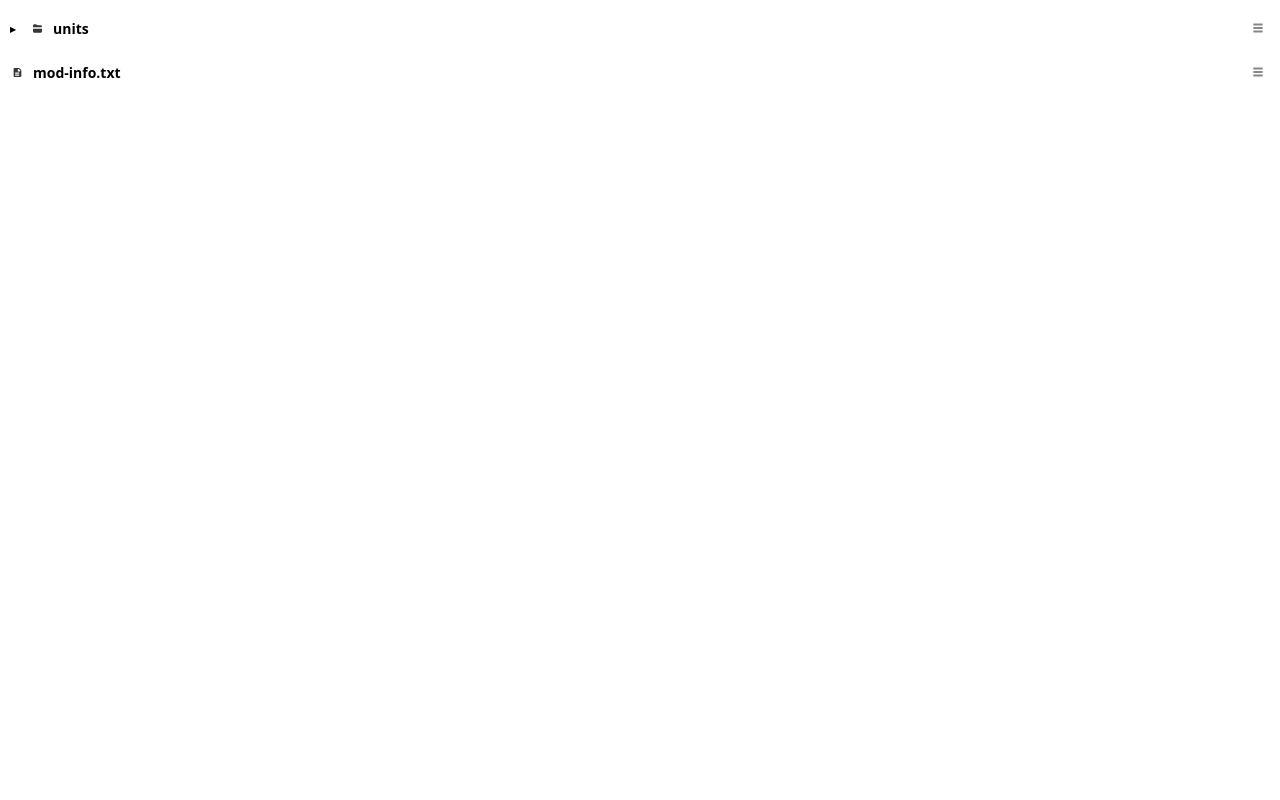
Test: FileTreePanel 目录重命名 › 重命名已展开目录后保持展开，子文件仍可见
// 展开 units 目录
Click the text "units" at (71, 28), box [53, 18, 89, 38]
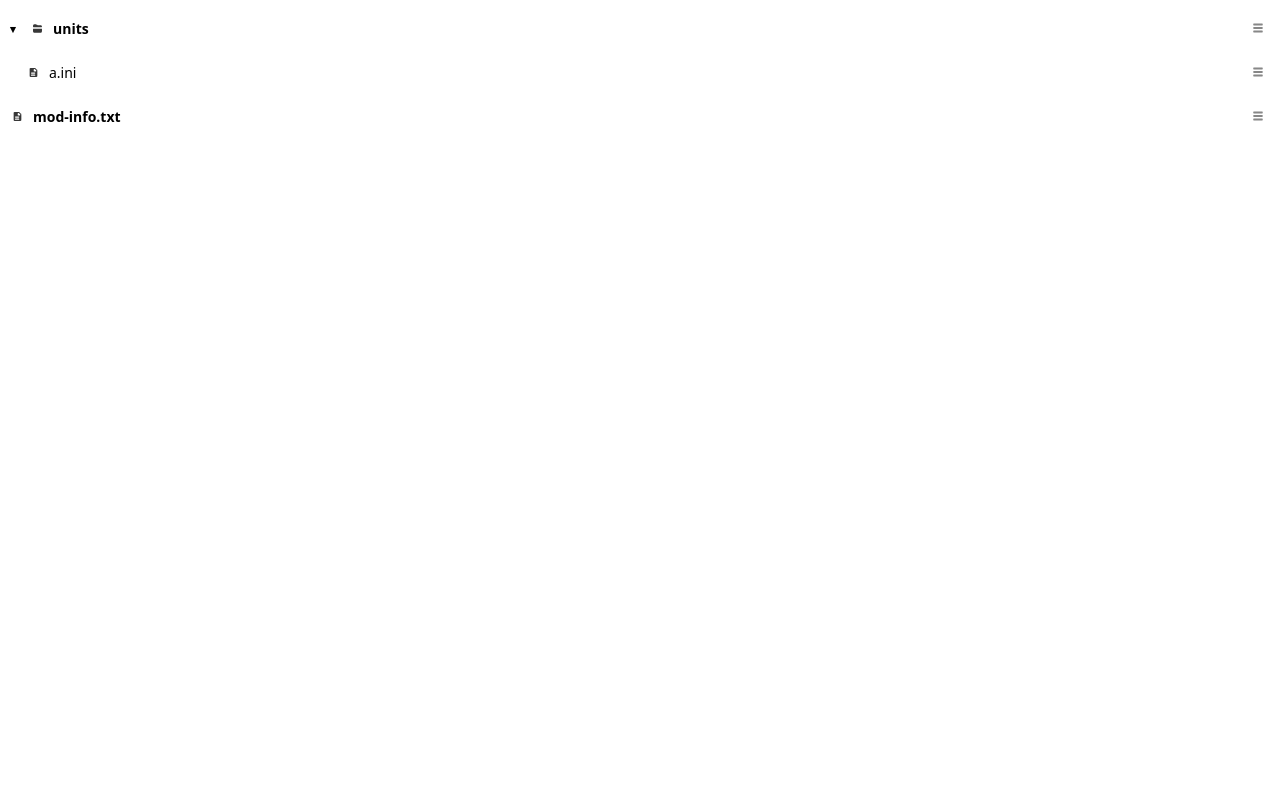
expect the text "a.ini" is shown: met, box [49, 62, 76, 82]
// 更多操作 → 重命名
Click the button named "units 的更多操作" at (1258, 28), box [1236, 6, 1279, 50]
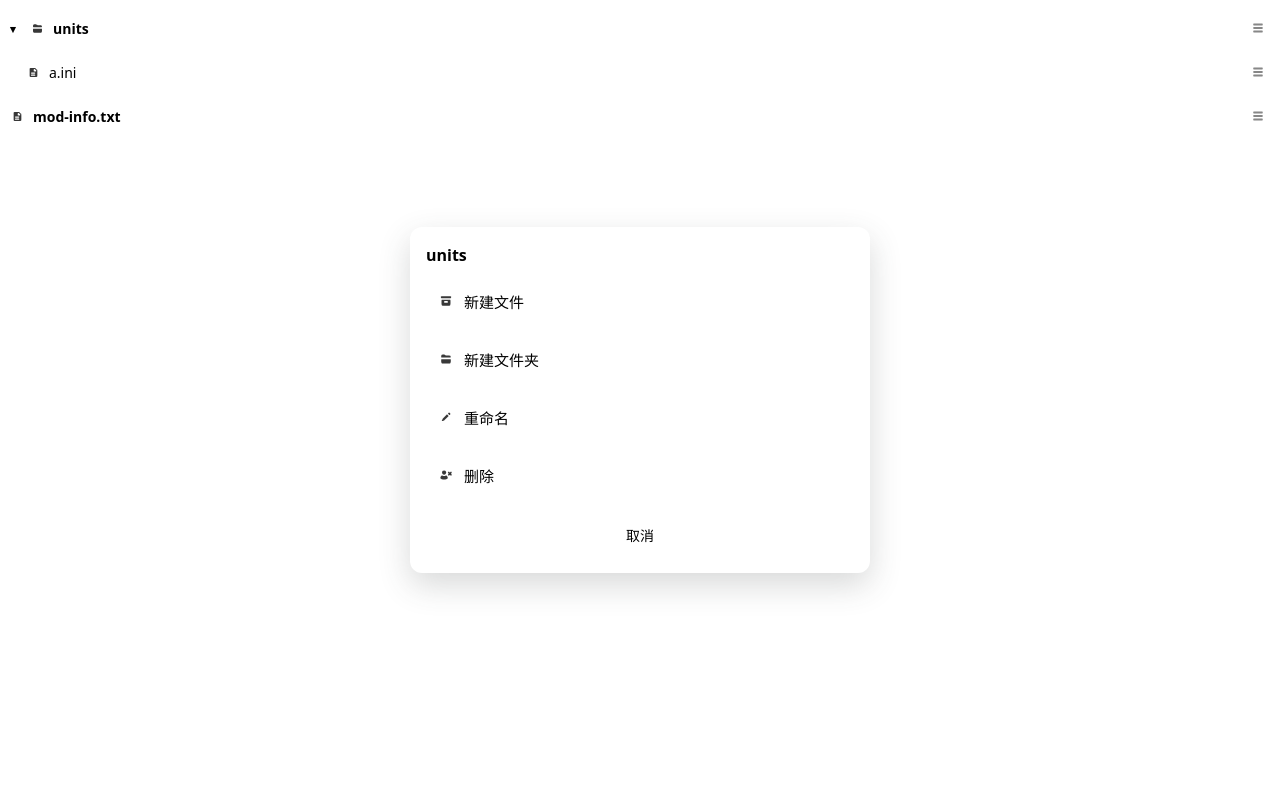
Click the button "重命名" at (487, 418), box [426, 393, 854, 441]
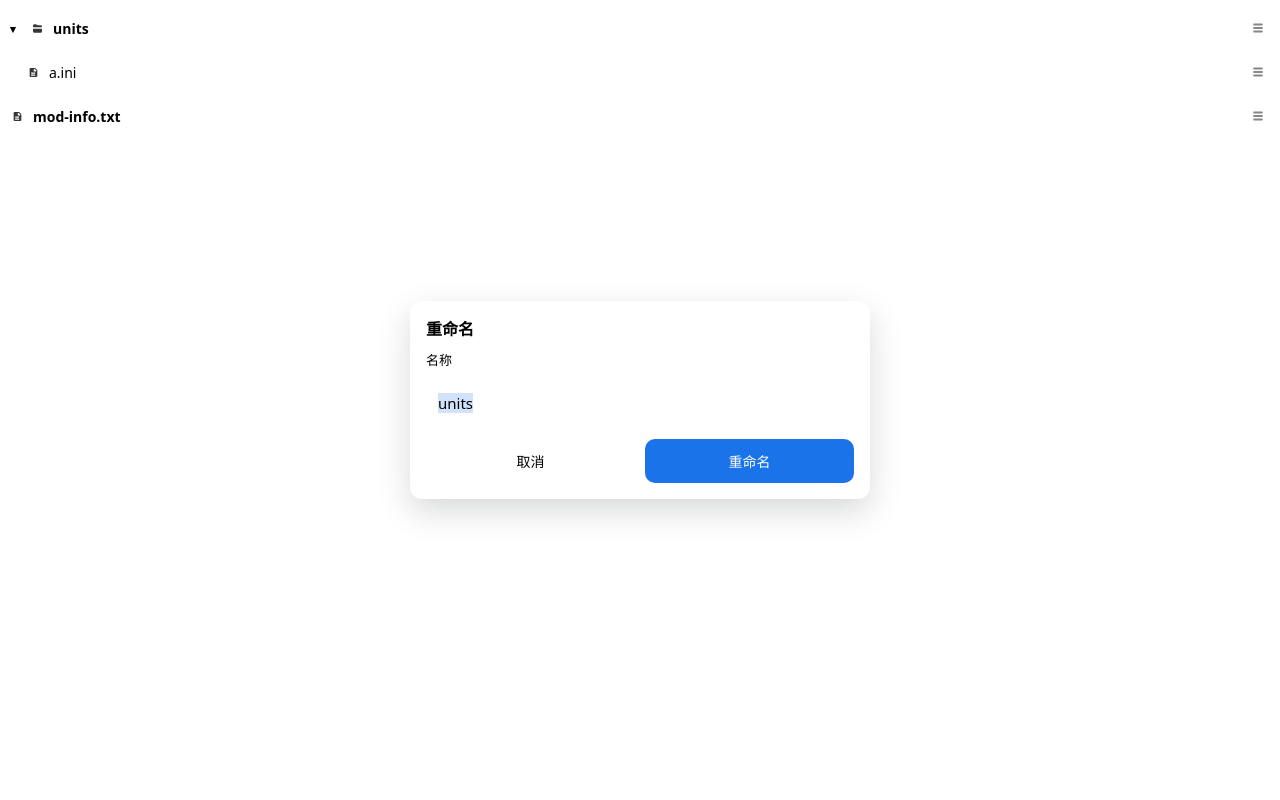
Replace the text in the field with "units2" at (640, 403), box [426, 381, 854, 425]
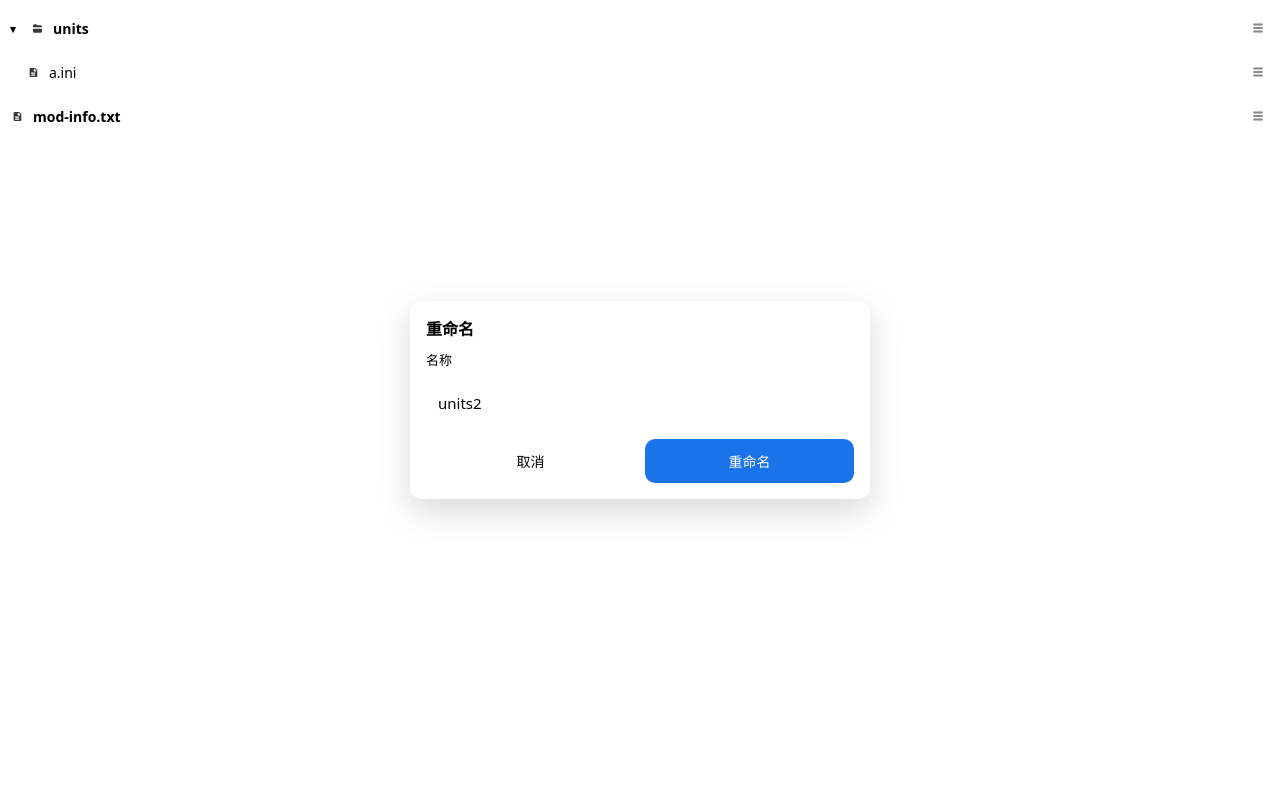
Click the button "重命名" at (750, 461), box [645, 439, 854, 483]
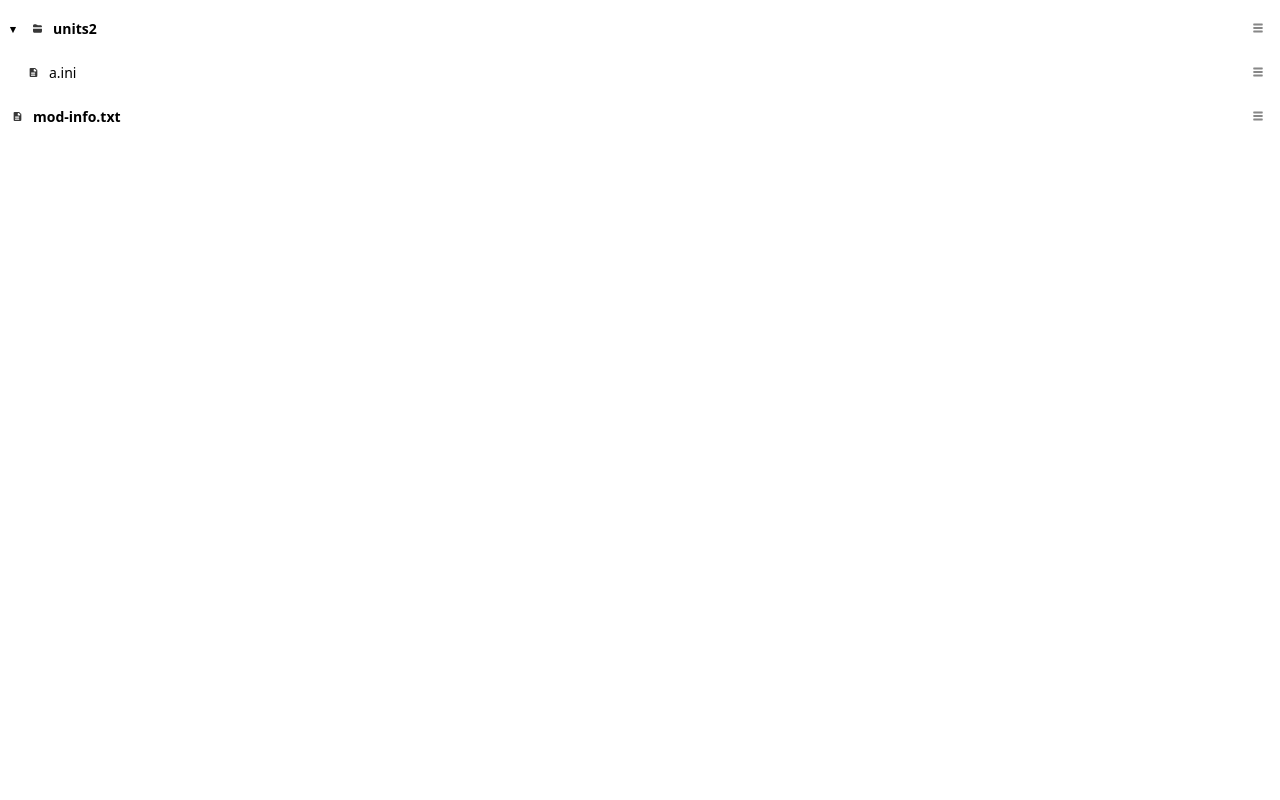
expect the text "a.ini" is shown: met, box [49, 62, 76, 82]
expect the text "units2" is shown: met, box [53, 18, 97, 38]
